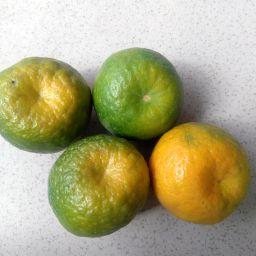orange: (47, 133, 152, 239), (148, 121, 249, 226), (91, 46, 186, 142), (1, 57, 93, 154)
